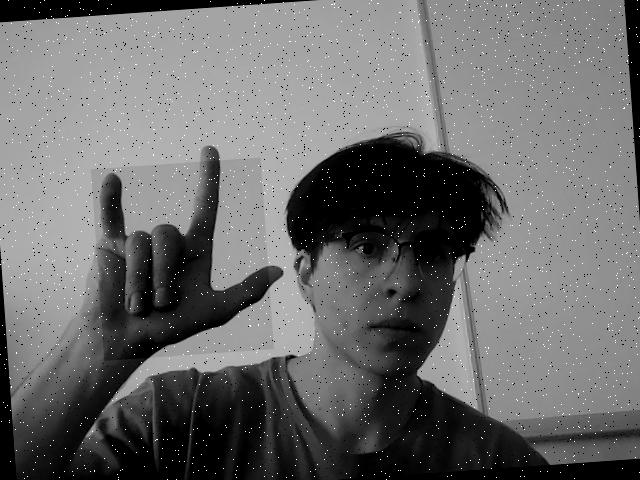I_Love_You: (90, 157, 274, 360)
